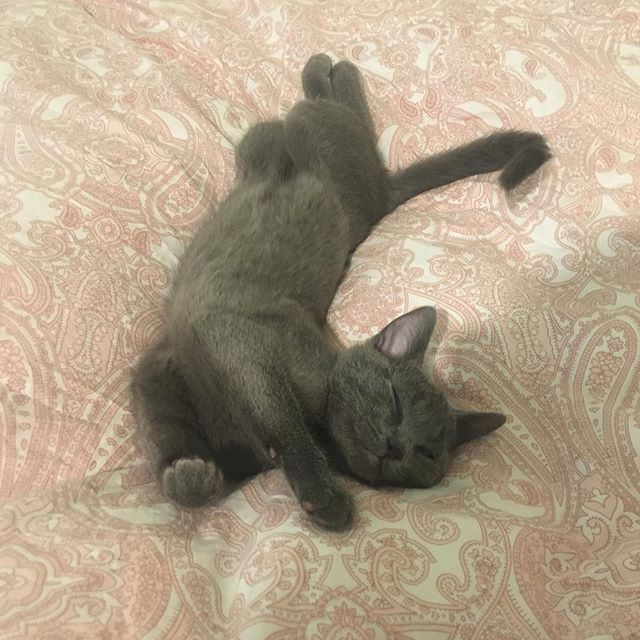cat: (313, 294, 513, 494)
